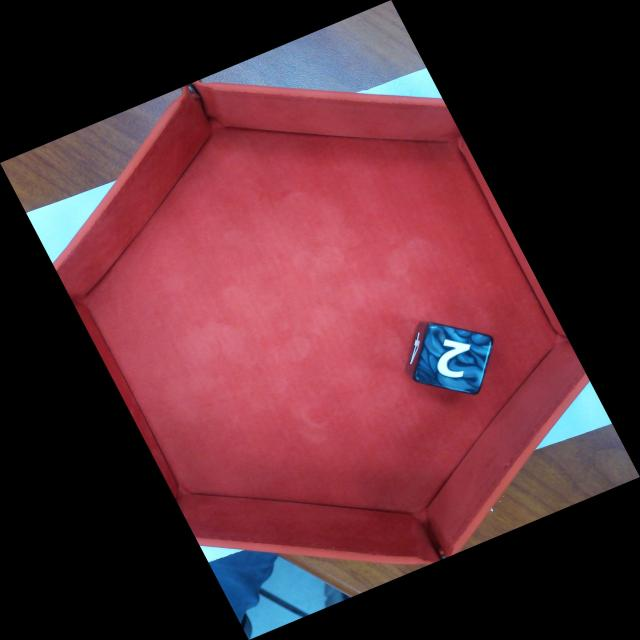dice: (418, 324, 493, 395)
